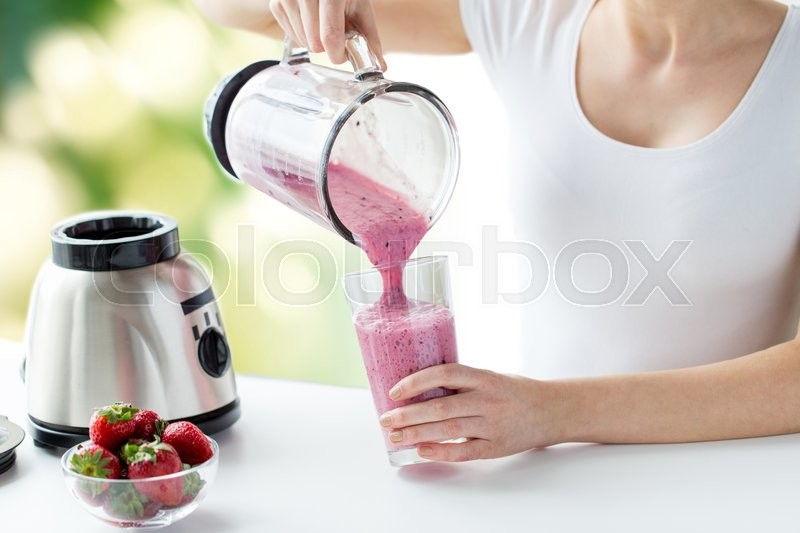glass of milk: (343, 253, 467, 464)
